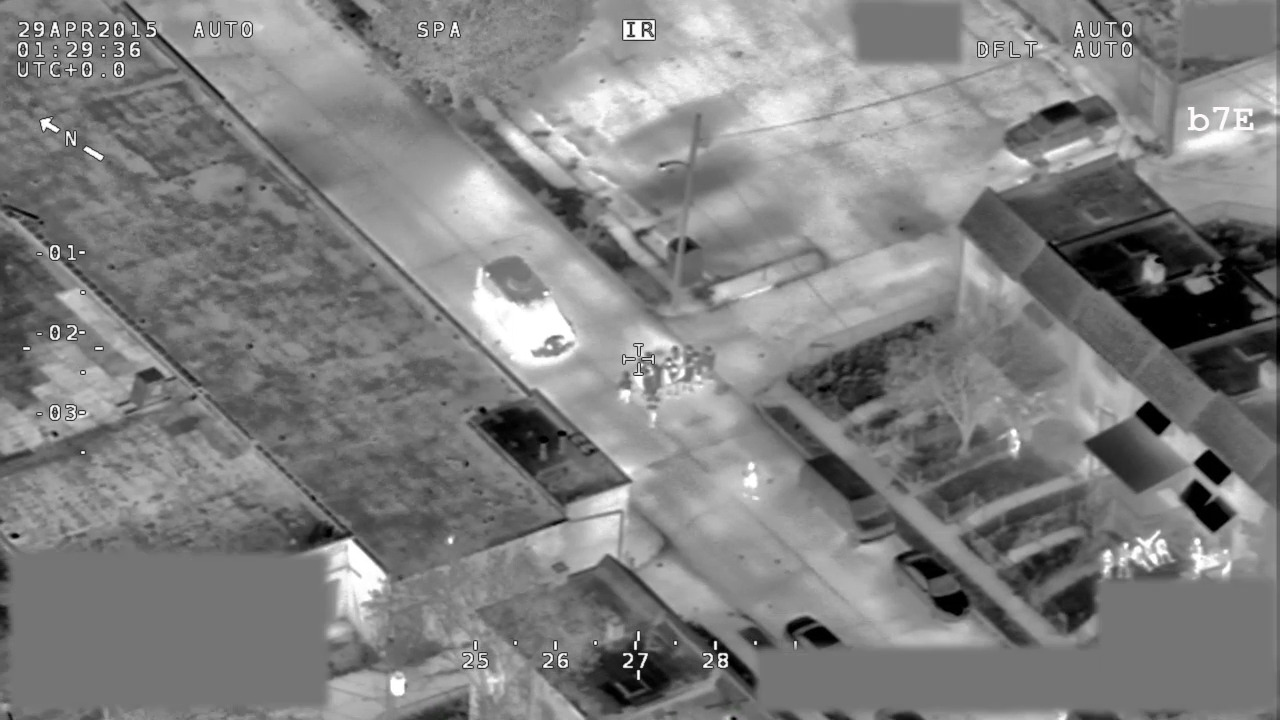vehicle: (465, 255, 582, 369), (799, 450, 902, 548), (999, 94, 1120, 165), (893, 544, 973, 624), (782, 613, 851, 648)
